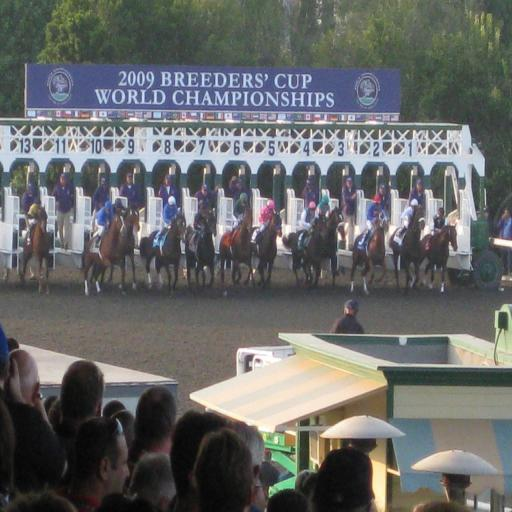horse: (83, 208, 129, 298), (138, 211, 188, 293), (281, 216, 329, 291), (350, 207, 388, 296), (389, 206, 426, 294), (218, 206, 256, 290), (418, 220, 458, 294), (310, 206, 345, 290), (184, 210, 218, 293), (113, 204, 141, 298), (19, 206, 50, 288), (256, 212, 284, 290)
